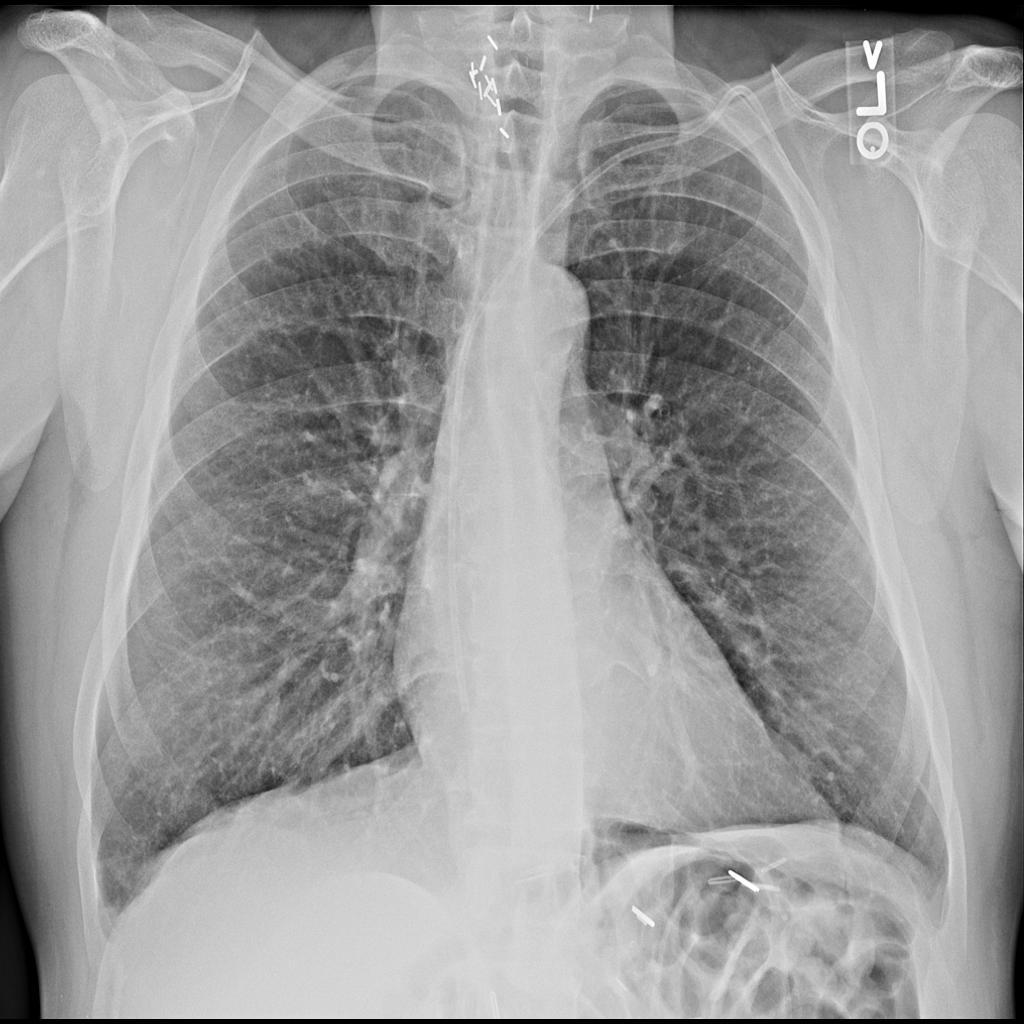Nodule: (842, 746, 874, 774)
